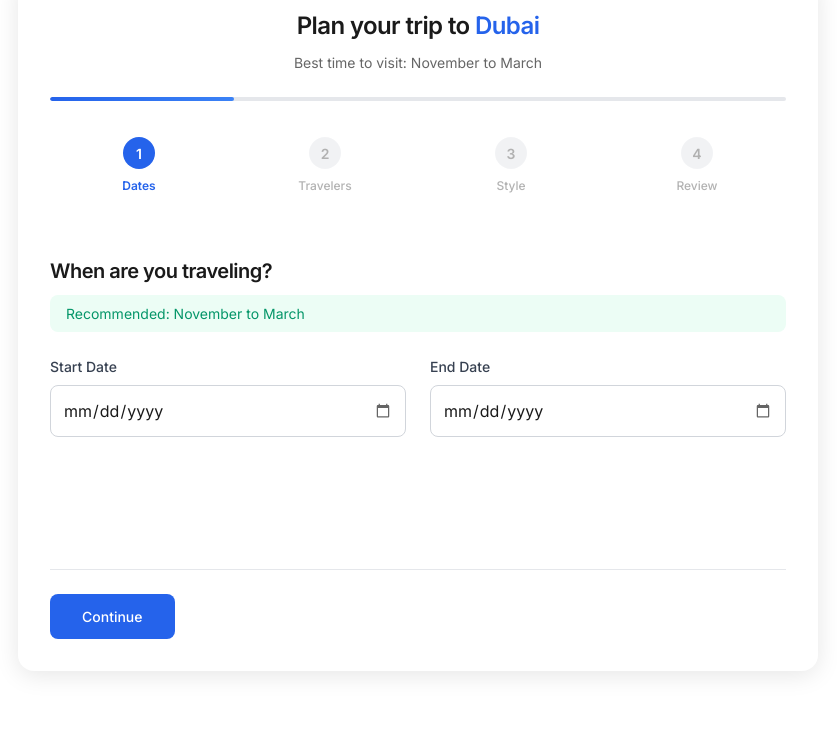
Test case: TripSetupWizard Integration › Button State Management › should show Continue on steps 0-2 and Start Planning on step 3
This screenshot has width=837, height=744.
Expected: the button "start planning" is not shown
Click the button "Continue" at (112, 616), box [50, 594, 174, 639]
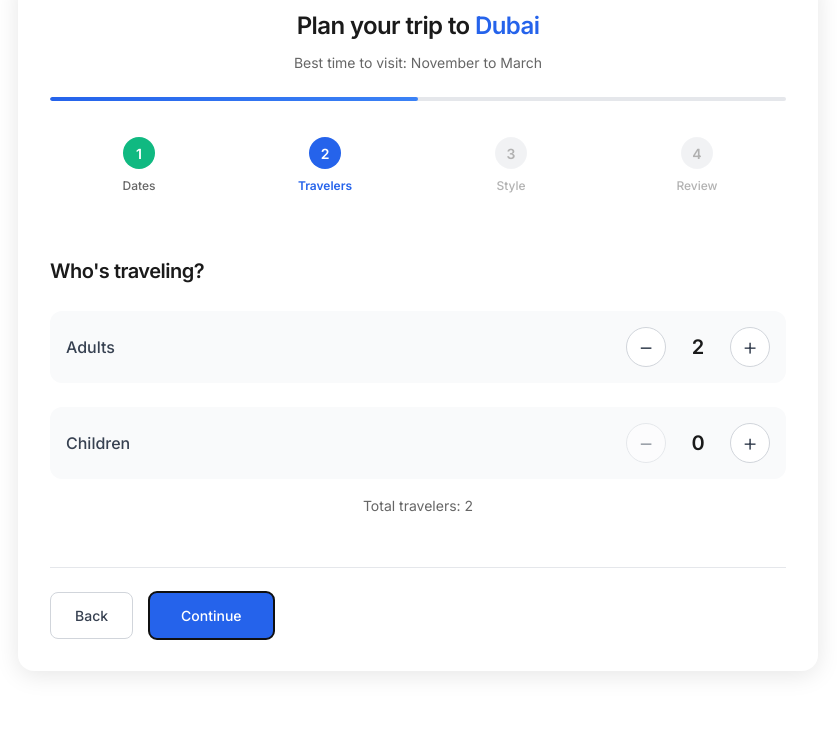
Click the button "Continue" at (211, 616), box [149, 592, 274, 639]
(page scrolled)
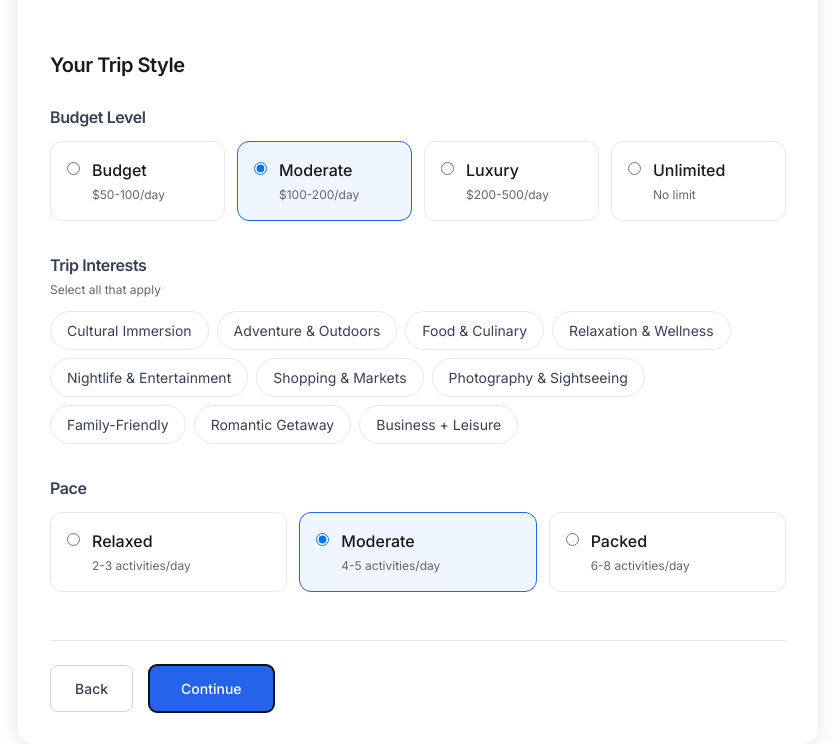
Click the button "Continue" at (211, 688), box [149, 665, 274, 712]
(page scrolled)
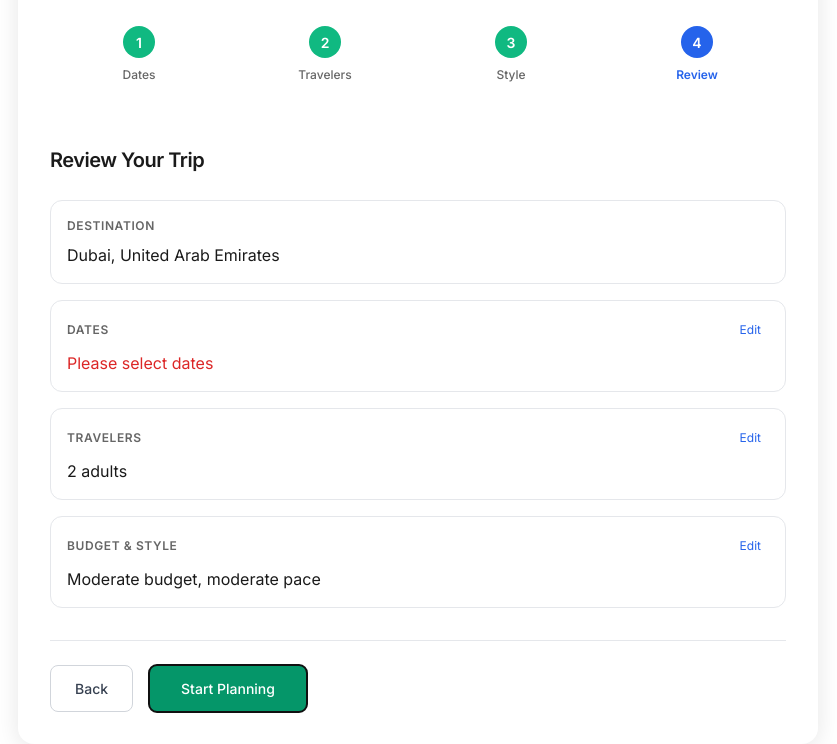
Expected: the element with test id "step-review" is shown
Expected: the button "Continue" is gone
Expected: the button "Start Planning" is shown, [149, 665, 307, 712]
